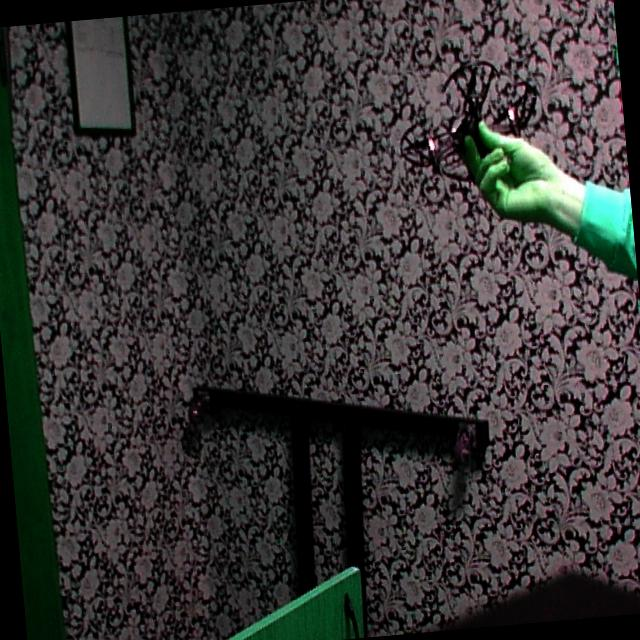drone: (387, 48, 549, 197)
